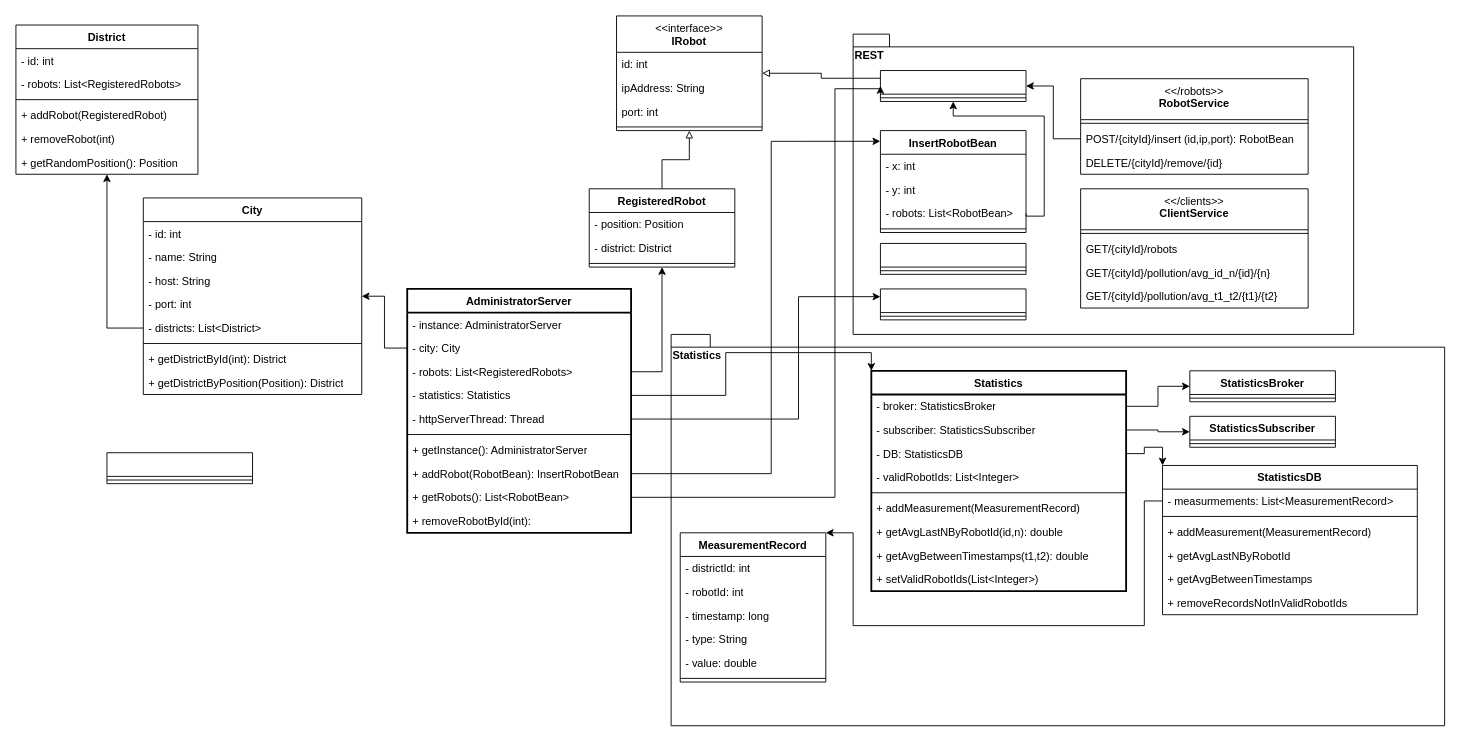
Image size: 1461x742. Some labels were removed from this diagram. The centre of each missing label's shape, as x and y in pixels:
"AdminClient" goes at point 179,468.
"AdminServerThread" goes at point 953,304.
"RESTUtils" goes at point 953,258.
"RobotBean" goes at point 953,85.
